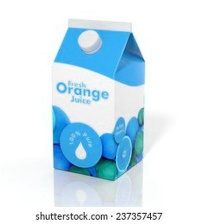carton: (46, 11, 159, 183)
